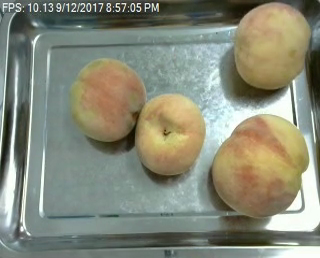Peach: (210, 113, 309, 218), (231, 1, 312, 89), (69, 57, 145, 143), (133, 94, 205, 177)
